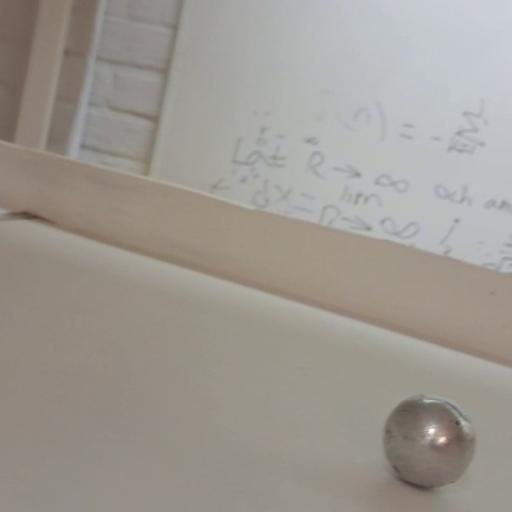alive: (379, 391, 477, 490)
